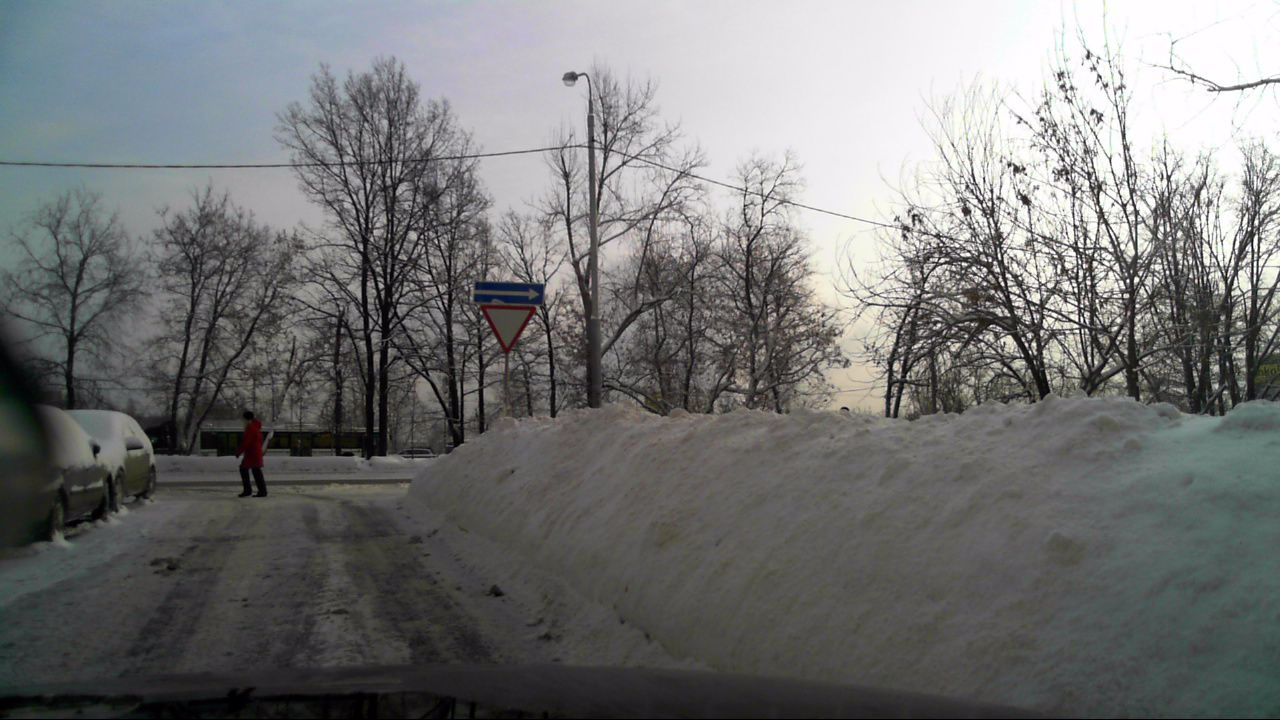One-Way Traffic: (474, 281, 544, 304)
